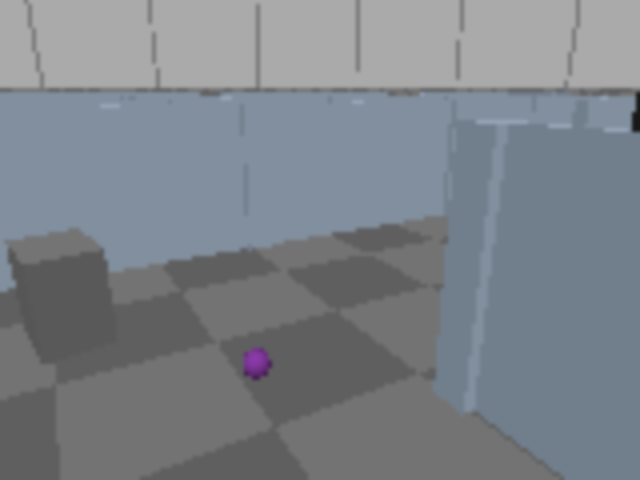obstacle: (5, 229, 118, 366)
puck: (238, 343, 273, 385)
